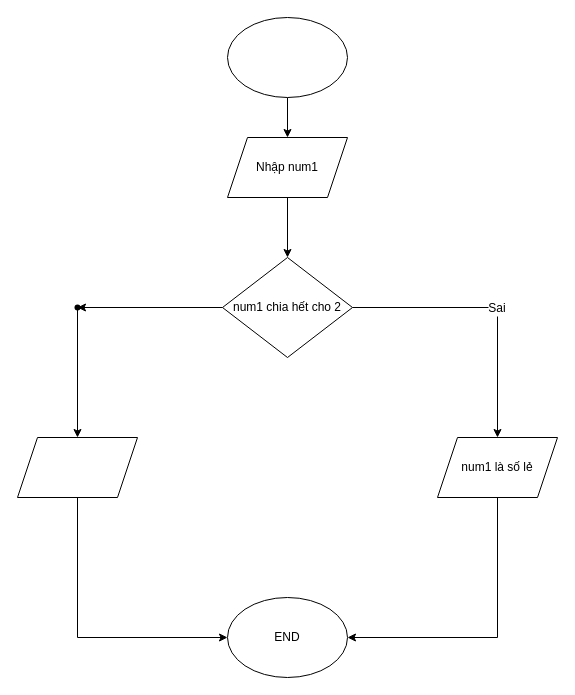
The diagram is 575 pixels wide and 695 high, and some of its shapes have lost their labels. Each missing label, with the centre of its shape:
"num1 là số chẵn" goes at (x=77, y=467).
"START" goes at (x=287, y=57).
"Đúng" goes at (x=77, y=307).
